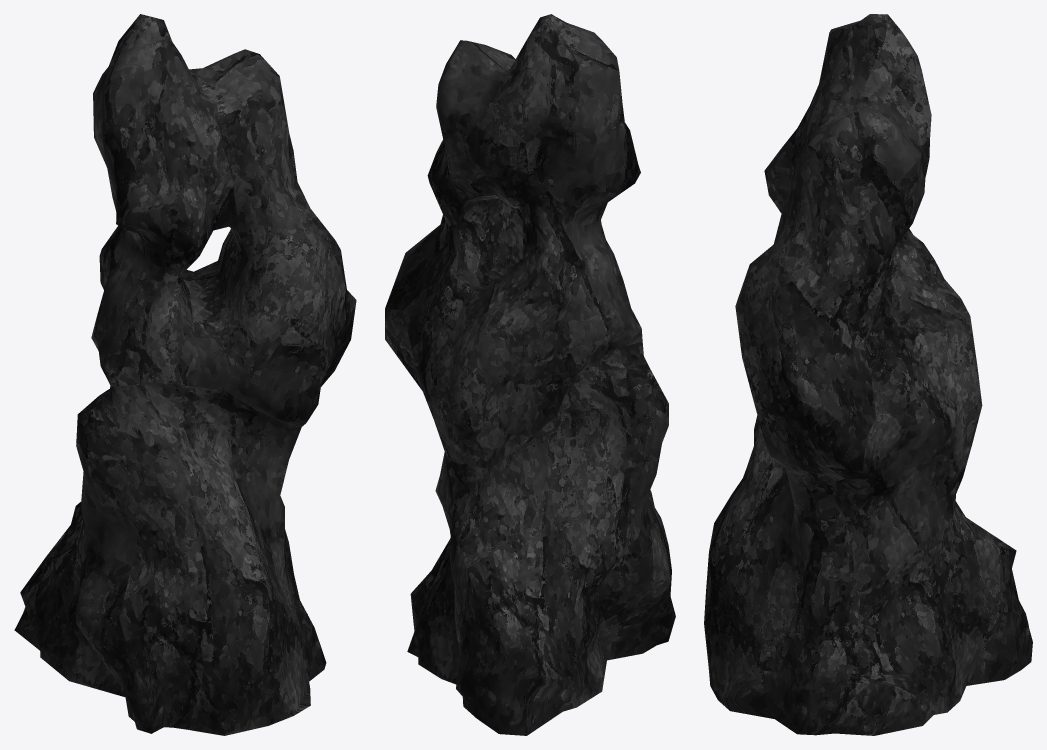
The model's file is shi1.FBX.
The picture shows the model from 3 angles, left to right: view 1: azimuth 30°, elevation 25°; view 2: azimuth 150°, elevation 25°; view 3: azimuth 270°, elevation 25°; orthographic projection.
Visible parts, largest first — view 1: stone_013_01; view 2: stone_013_01; view 3: stone_013_01.
Boxes of the visible parts, x1,y1,x2,y2 form: stone_013_01: [14, 14, 356, 735]; stone_013_01: [385, 14, 675, 735]; stone_013_01: [704, 14, 1032, 735].
Size of the model in its own units: 724 by 1672 by 754.
